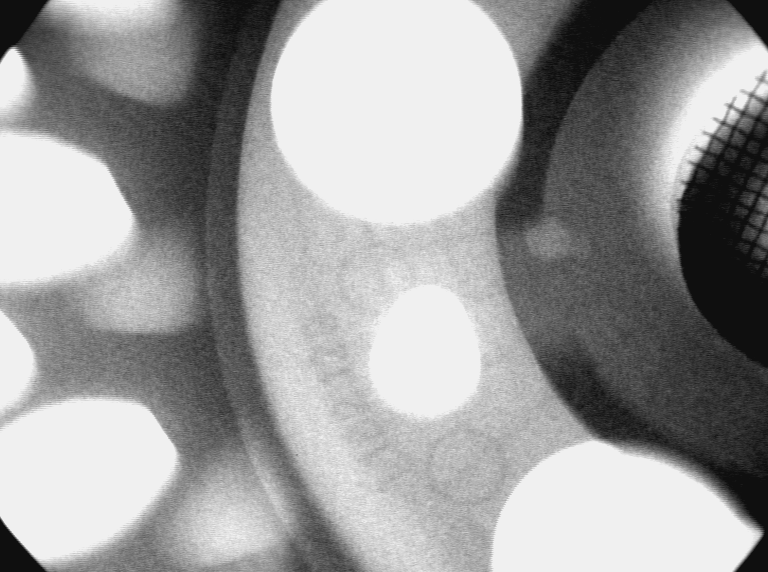defect: (526, 214, 593, 266)
